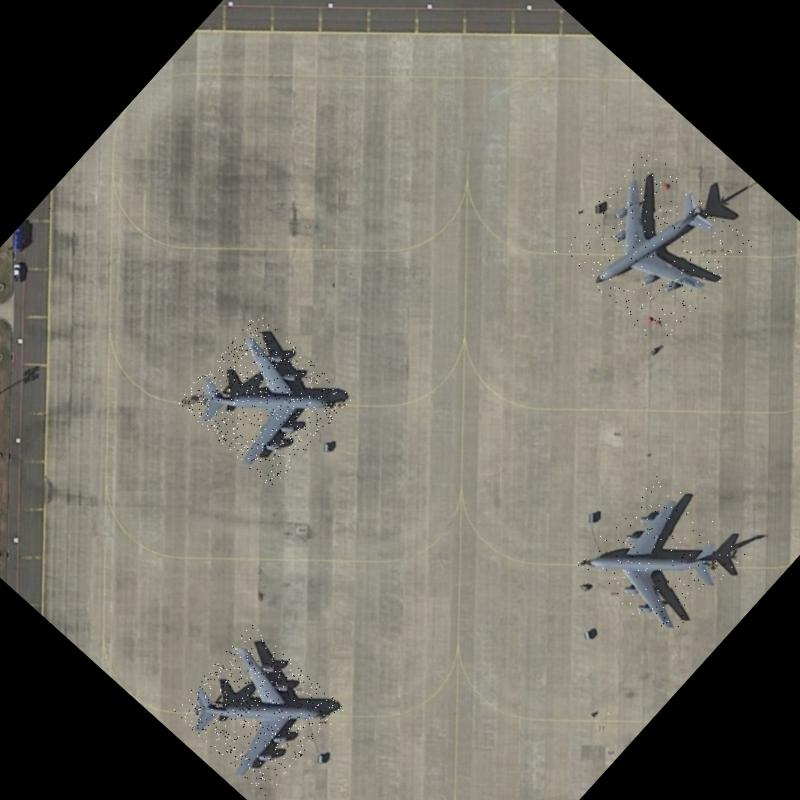A14: (552, 147, 754, 348), (175, 312, 352, 488), (574, 470, 747, 643), (170, 624, 344, 796)
